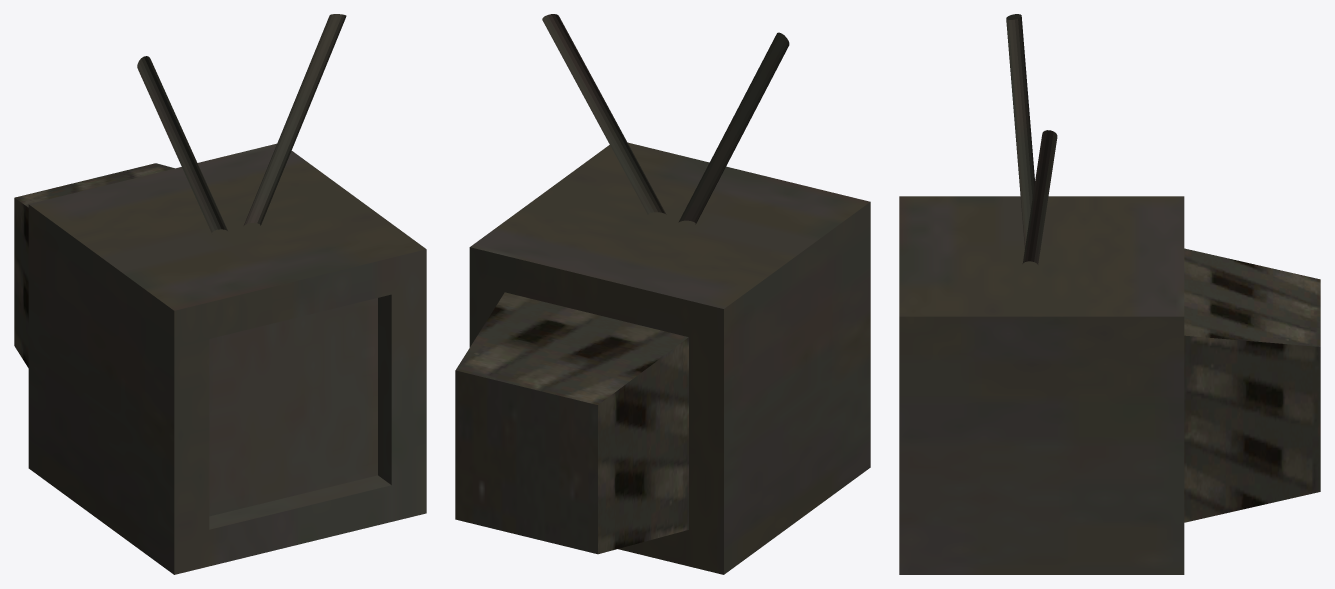
The model's file is bar_tv.glb.
3 renders of one model, left to right at view 1: azimuth 30°, elevation 25°; view 2: azimuth 150°, elevation 25°; view 3: azimuth 270°, elevation 25°, orthographic. The views are drawn at different scales.
Visible parts, largest first — view 1: Cube; view 2: Cube; view 3: Cube.
Part boxes in pixels (<box>): Cube: <box>14,14,426,574</box>; Cube: <box>455,14,870,574</box>; Cube: <box>899,14,1320,574</box>.
Bounding box in the file's own units: 0.6742 × 1.19 × 0.9964.
Materials: 1 (1 with a texture image).
